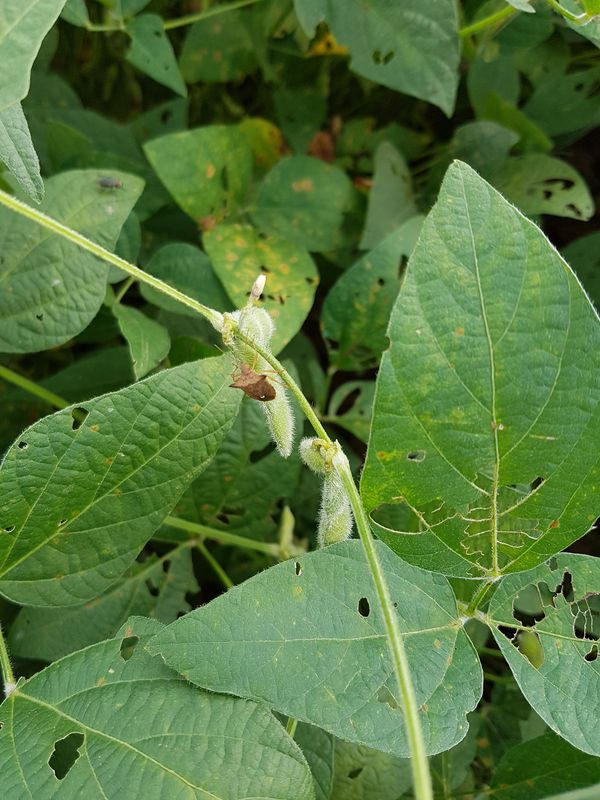Euschistus_heros_adulto: (217, 343, 297, 413)
